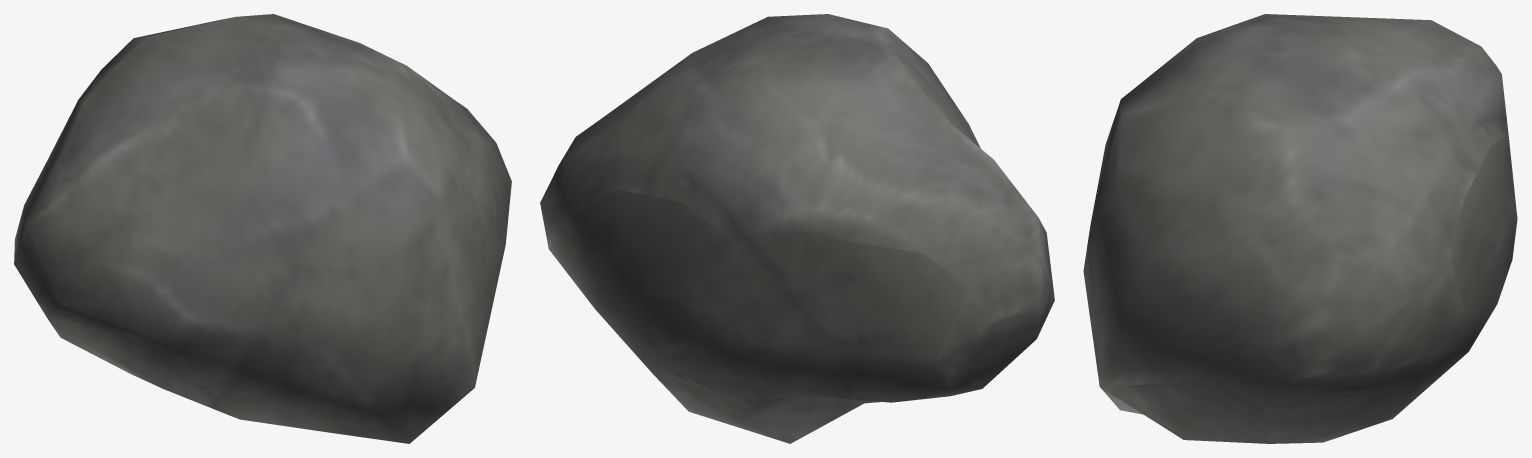
File: deposit.glb
3 views of the same model, side by side, from view 1: azimuth 30°, elevation 25°; view 2: azimuth 150°, elevation 25°; view 3: azimuth 270°, elevation 25° (orthographic). The views are drawn at different scales.
Parts seen in each view (by area): view 1: node_id38; view 2: node_id38; view 3: node_id38.
Boxes of the visible parts, box(x1,y1,x2,y2) form: node_id38: box(14, 14, 511, 443); node_id38: box(540, 14, 1054, 443); node_id38: box(1083, 14, 1517, 443).
Bounding box in the file's own units: 0.0729 × 0.0559 × 0.0565.
Materials: 1 (1 with a texture image).
